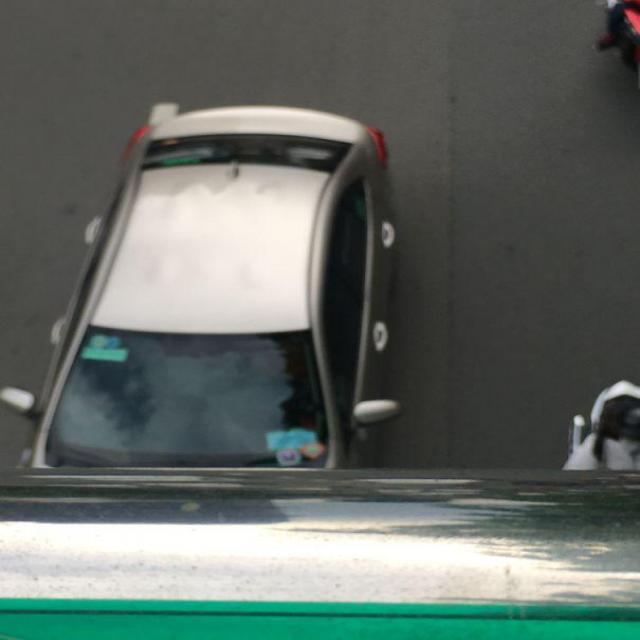car: (6, 100, 417, 482)
motorcycle: (595, 1, 640, 76)
